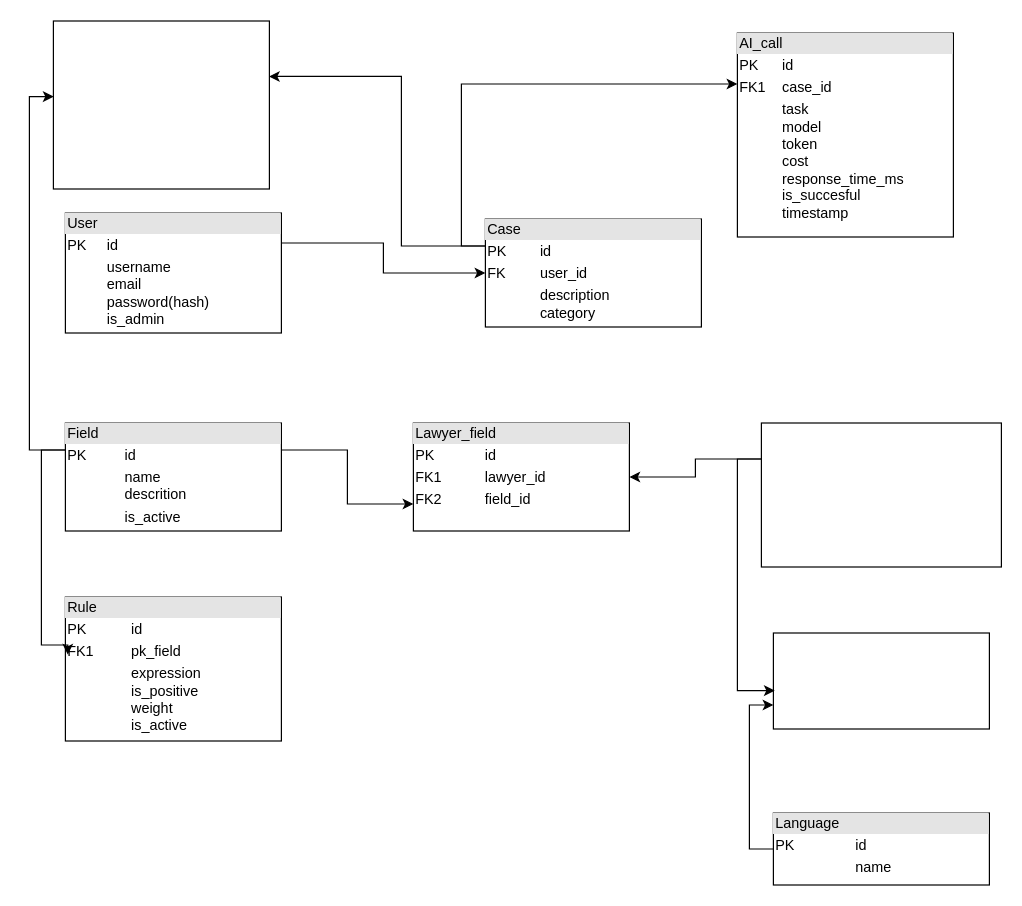
The diagram is 1022 pixels wide and 906 high, and some of its shapes have lost their labels. The shapes that lost their labels are listed below. From the top down, each one's centre as x and y in pixels, then its label:
the point at 160,104: Result PK id FK1 case_id FK2 field_id mode points rules_applied timestamp
the point at 880,494: Lawyer PK id name city price is_online (online meetings) is_active
the point at 880,680: Lawyer_language PK id FK1 lawyer_id FK2 language_id
